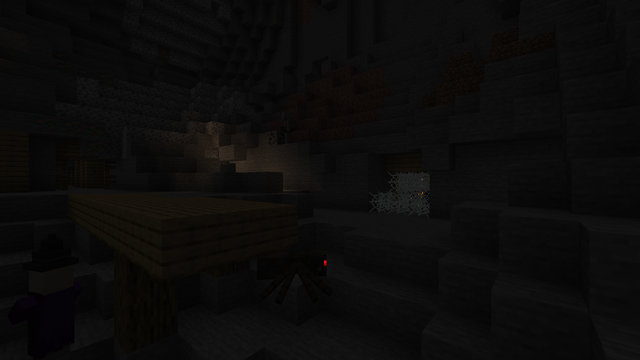araignees: (256, 240, 336, 305)
sorcieres: (29, 256, 74, 359)
squelettes: (280, 111, 293, 143)
